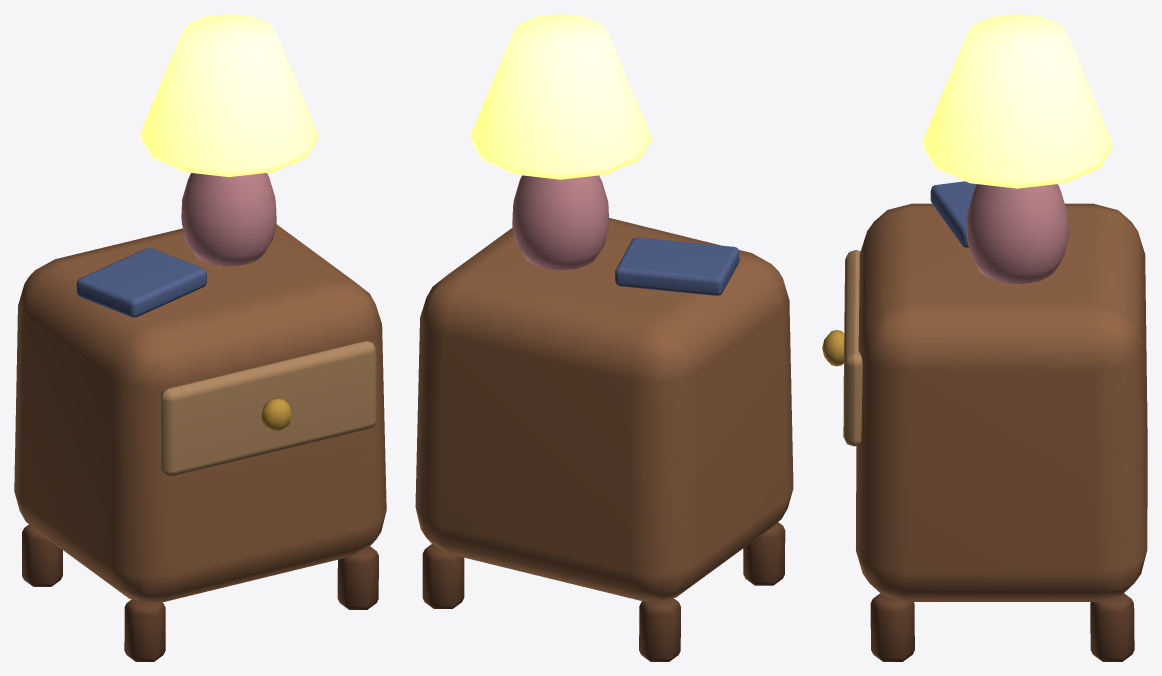
File: nightstand.glb
3 renders of one model, left to right at view 1: azimuth 30°, elevation 25°; view 2: azimuth 150°, elevation 25°; view 3: azimuth 270°, elevation 25°, orthographic. The views are drawn at different scales.
Visible parts, largest first — view 1: nightstand, lamp; view 2: nightstand, lamp; view 3: nightstand, lamp.
Boxes of the visible parts, <box> form: nightstand: <box>14,224,386,661</box>; lamp: <box>140,14,317,266</box>; nightstand: <box>415,218,793,661</box>; lamp: <box>470,14,650,270</box>; nightstand: <box>822,181,1147,661</box>; lamp: <box>922,14,1112,284</box>.
Size of the model in its own units: 0.4581 by 0.88 by 0.4448.
